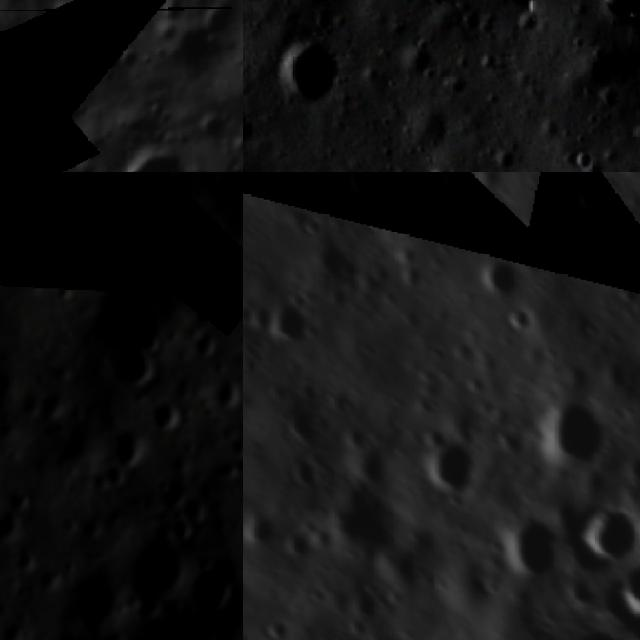crater: (306, 468, 424, 584), (518, 379, 626, 488), (406, 425, 504, 519), (419, 539, 507, 631), (490, 504, 580, 591), (568, 485, 640, 576), (269, 34, 345, 114), (254, 290, 326, 364), (295, 234, 363, 304), (469, 247, 532, 310), (104, 132, 198, 172), (273, 404, 330, 461), (276, 446, 334, 501), (111, 331, 167, 387), (243, 498, 287, 557), (497, 299, 548, 348), (337, 172, 400, 211), (515, 223, 562, 274), (566, 180, 609, 222), (194, 108, 236, 148), (399, 41, 438, 84), (137, 189, 181, 226), (294, 208, 333, 248), (256, 607, 303, 640), (420, 420, 457, 459), (214, 260, 243, 309), (598, 0, 640, 32), (162, 518, 198, 552), (300, 580, 334, 616), (322, 623, 393, 640), (584, 91, 622, 122), (112, 443, 148, 472), (283, 172, 343, 188), (117, 42, 144, 76), (566, 145, 599, 172), (151, 409, 178, 437), (366, 626, 414, 640), (494, 148, 517, 172), (68, 0, 112, 12), (102, 0, 142, 11), (243, 471, 252, 506), (423, 164, 456, 172)
